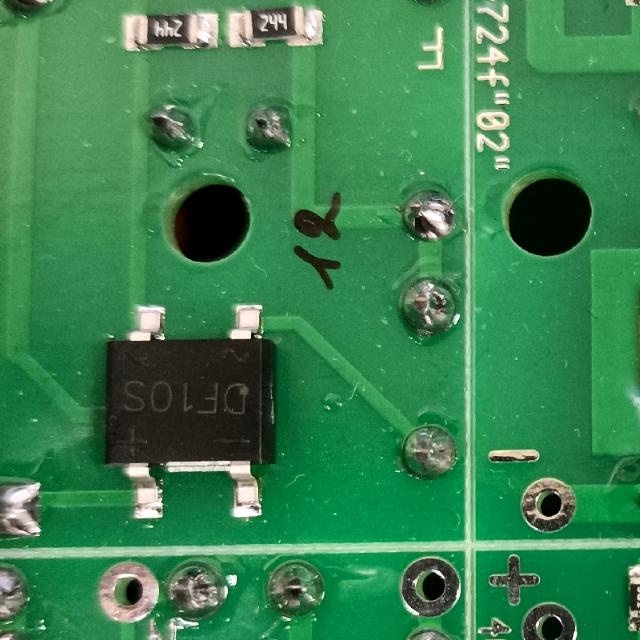chip-resistor: (225, 6, 329, 49), (120, 10, 222, 50)
ic: (101, 299, 281, 524)
